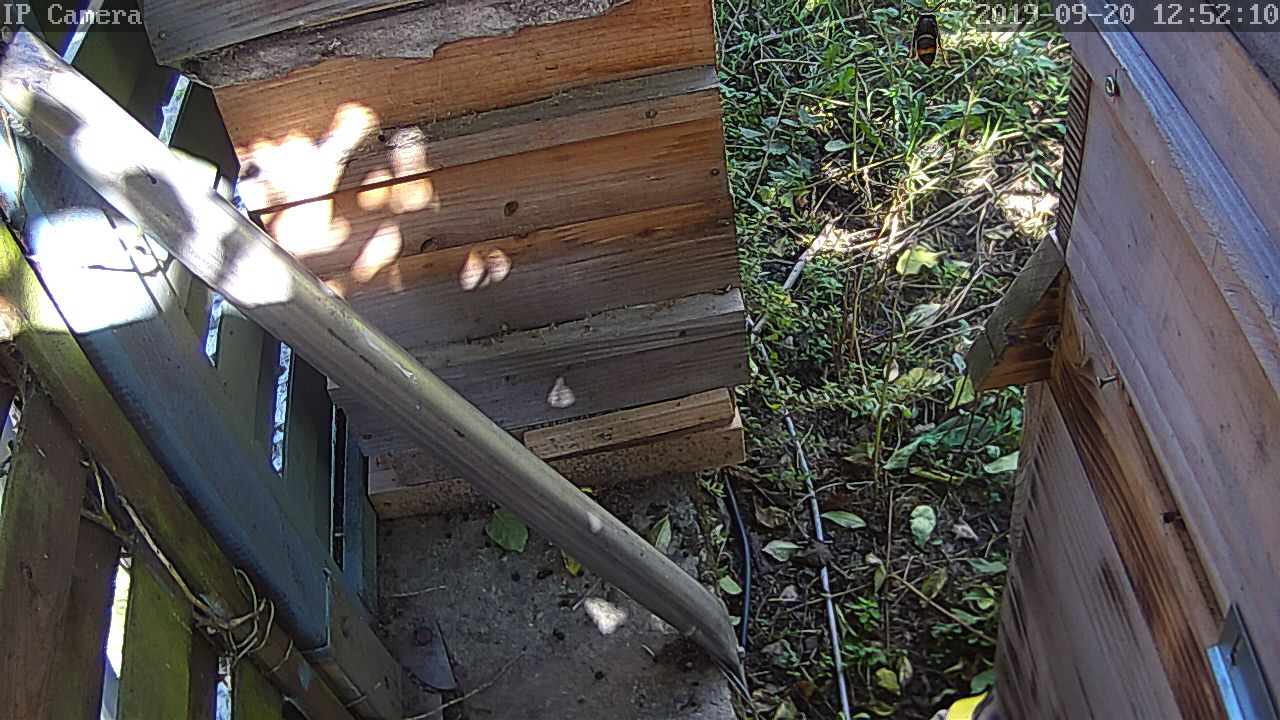hornet: (896, 4, 950, 64)
